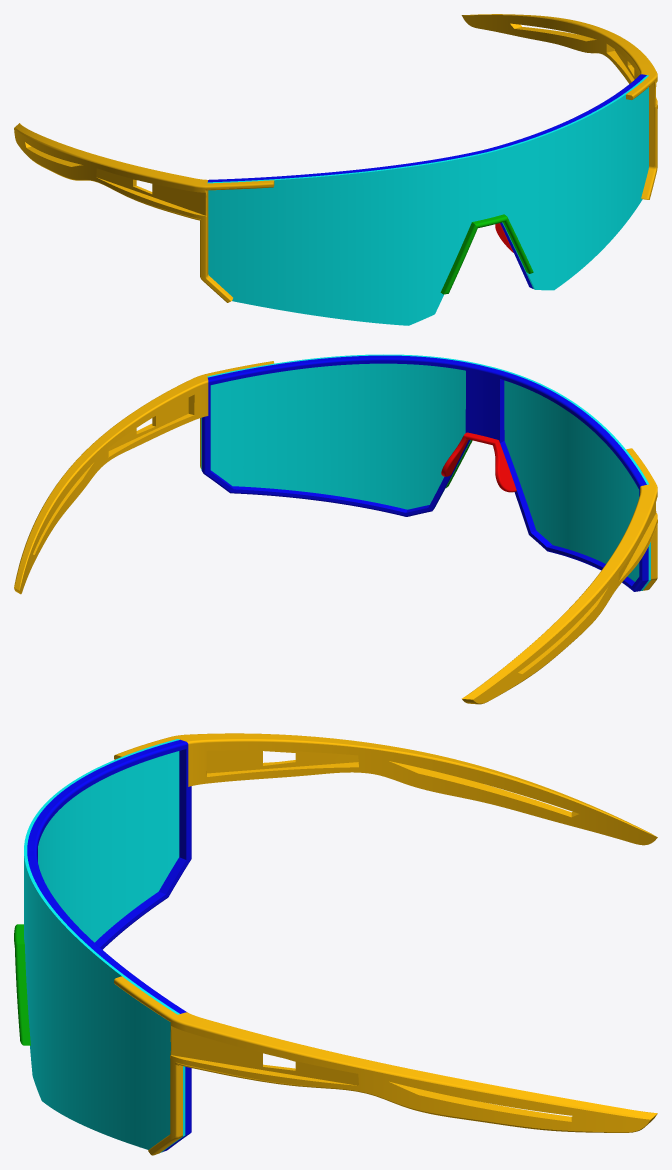
Rendered from models_occhiali_veloci.glb.
The picture shows the model from 3 angles, top to bottom: view 1: azimuth 30°, elevation 25°; view 2: azimuth 150°, elevation 25°; view 3: azimuth 270°, elevation 25°; orthographic projection. The views are drawn at different scales.
Parts seen in each view (by area): view 1: Lente, Stanghette, Dietro, Davanti; view 2: Lente, Stanghette, Dietro, Appoggio naso; view 3: Lente, Stanghette, Dietro, Davanti.
Part boxes in pixels (x1,y1,x2,y2): Lente: (207, 75, 648, 325); Stanghette: (14, 14, 657, 302); Dietro: (208, 74, 646, 288); Davanti: (440, 214, 533, 294); Lente: (201, 354, 650, 590); Stanghette: (14, 361, 657, 704); Dietro: (202, 355, 648, 591); Appoggio naso: (441, 432, 516, 492); Lente: (24, 739, 185, 1152); Stanghette: (114, 733, 657, 1155); Dietro: (27, 739, 191, 1152); Davanti: (14, 924, 30, 1045).
Size of the model in its own units: 0.2356 by 0.0686 by 0.1953.
